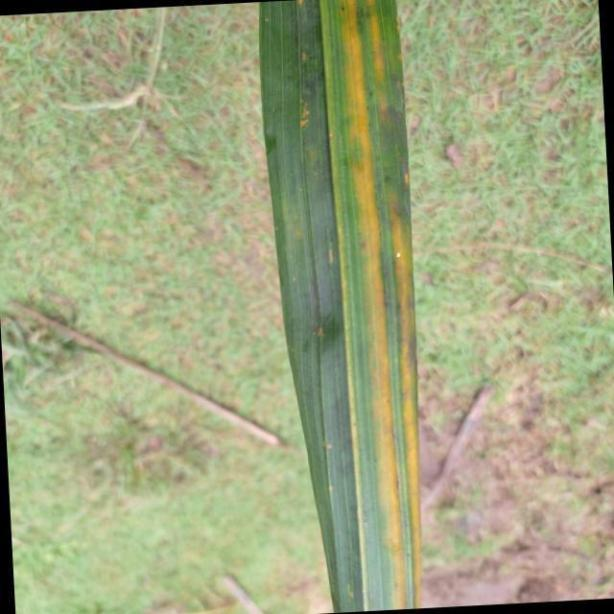Megnesium: (259, 0, 427, 614)
